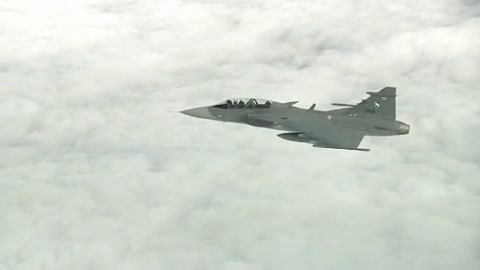aeroplane: (168, 87, 412, 152)
